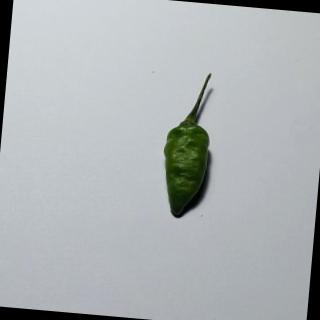Cabai Hijau: (154, 67, 232, 224)
